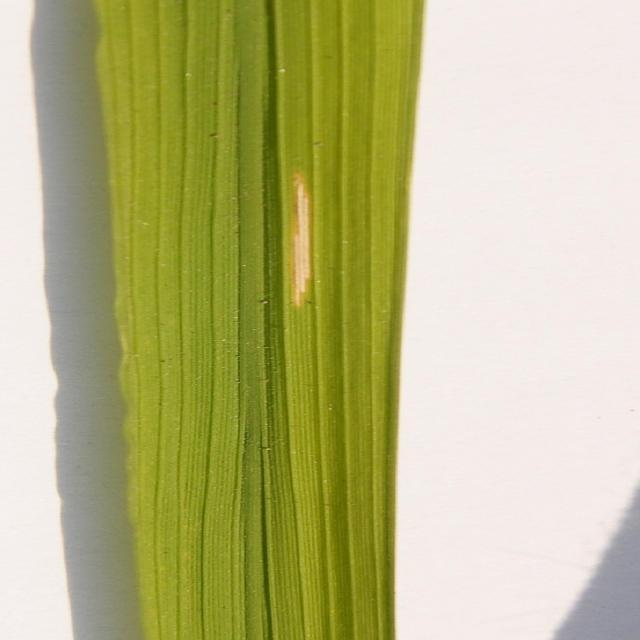leaf blight: (268, 166, 334, 318)
